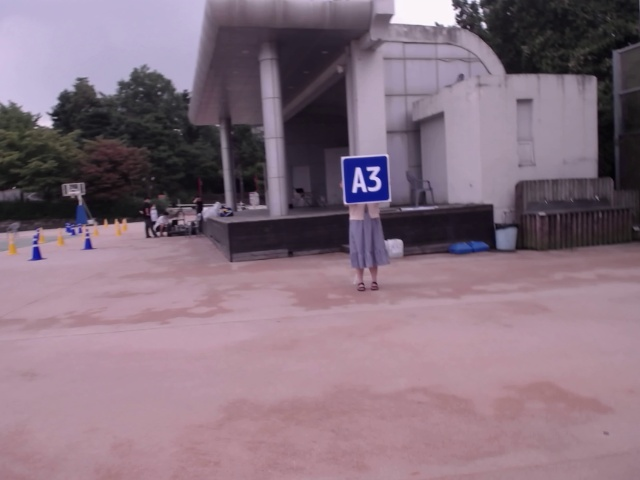delivery_a3: (342, 154, 391, 204)
